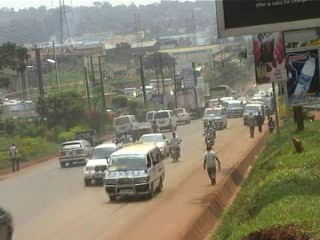Car: (82, 141, 117, 185), (54, 137, 90, 168), (136, 132, 169, 158), (0, 200, 22, 239), (127, 120, 153, 143), (169, 108, 195, 127)
Motorcycle: (165, 130, 182, 163), (207, 119, 218, 143), (203, 127, 213, 152), (117, 129, 131, 146)
